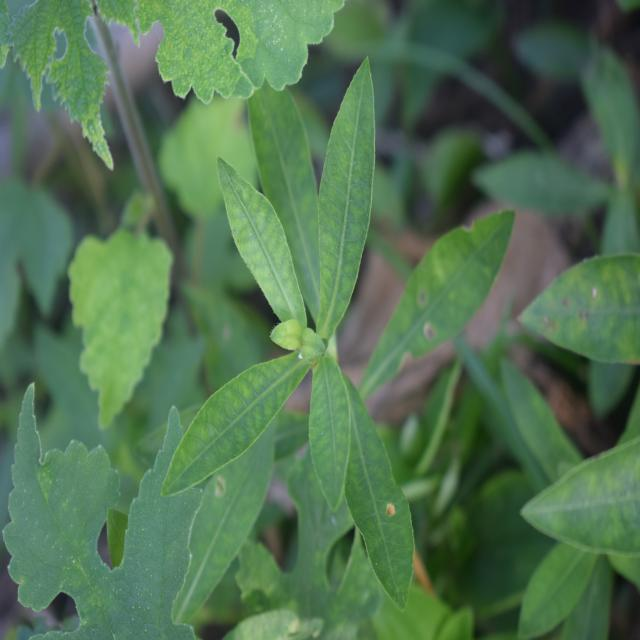Alligatorweed: (192, 99, 459, 590)
